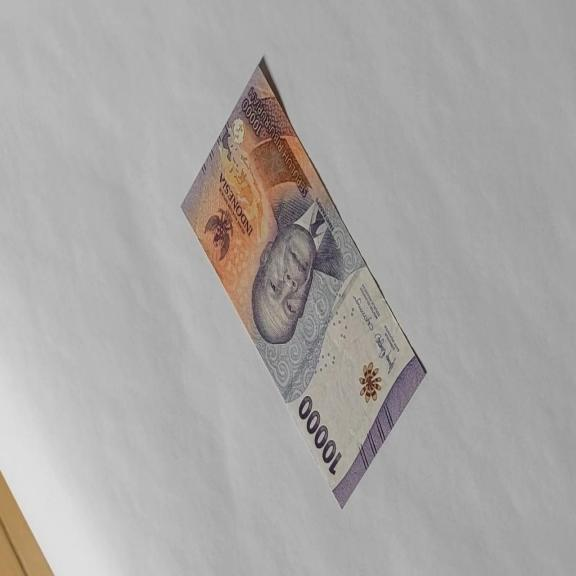Kertas: (180, 54, 427, 510), (298, 394, 342, 476)
